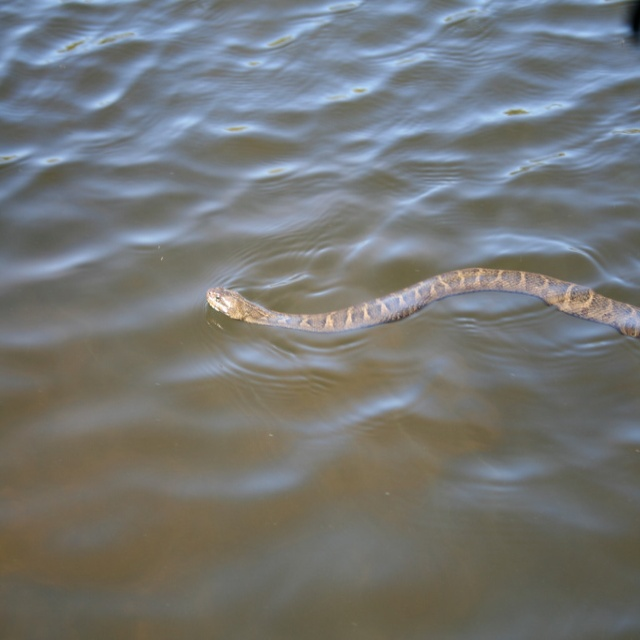Snake: (207, 264, 640, 342)
